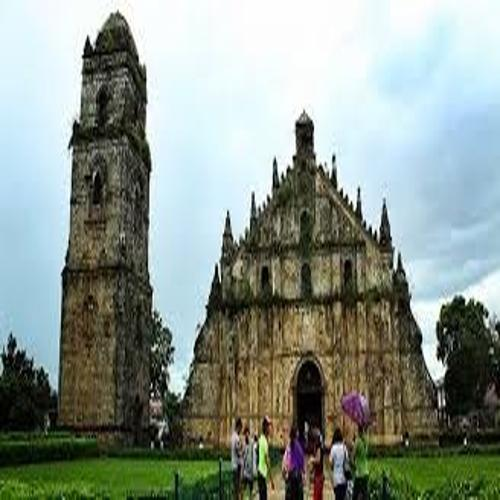Paoay Church: (59, 6, 439, 447)
